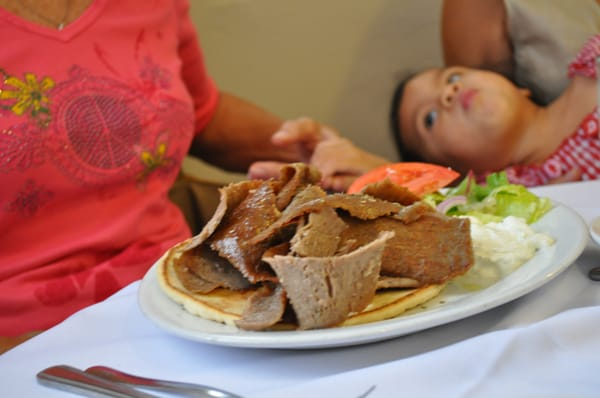soup: (345, 161, 463, 206)
